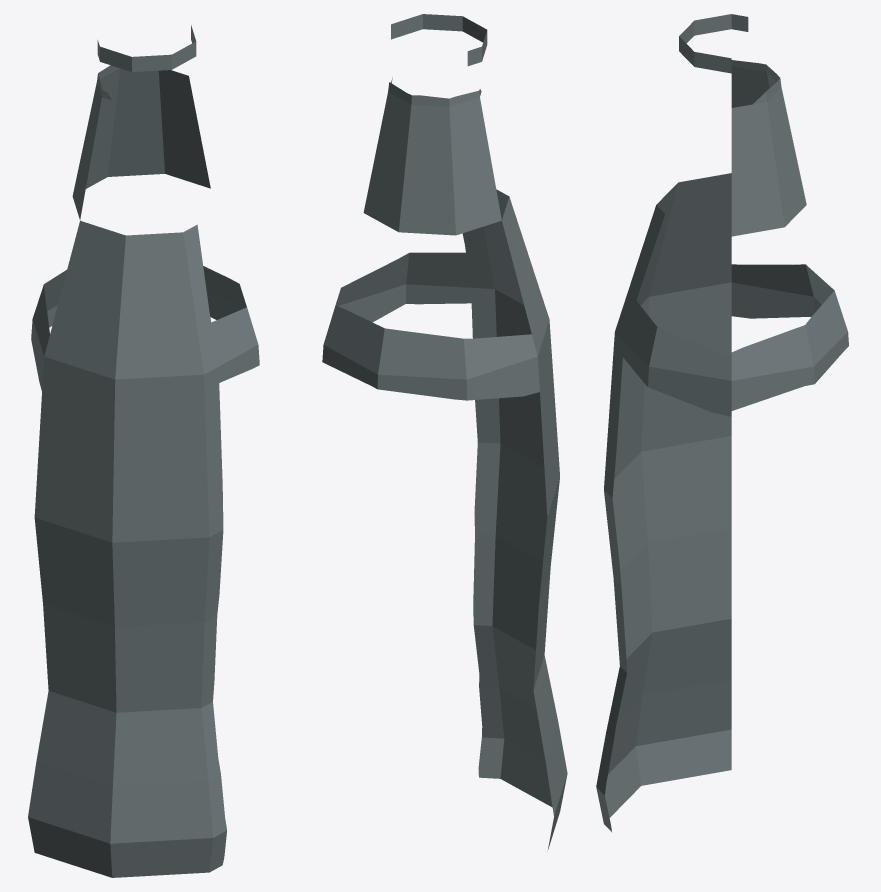
Rendered from GlassCola.fbx.
The picture shows the model from 3 angles, left to right: view 1: azimuth 30°, elevation 25°; view 2: azimuth 150°, elevation 25°; view 3: azimuth 270°, elevation 25°; orthographic projection.
Parts seen in each view (by area): view 1: glass coke; view 2: glass coke; view 3: glass coke.
Part boxes in pixels (<box>): glass coke: <box>28,25,259,877</box>; glass coke: <box>322,14,567,850</box>; glass coke: <box>596,14,848,831</box>.
Size of the model in its own units: 6.71 by 21.55 by 6.71.
1 material, 1 textured.
